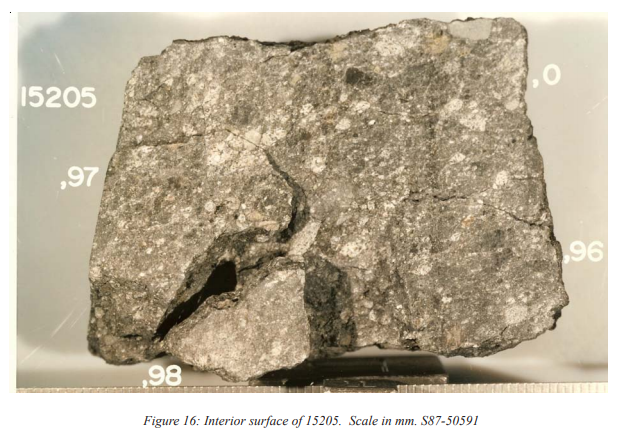Breccia: (118, 29, 562, 360)
